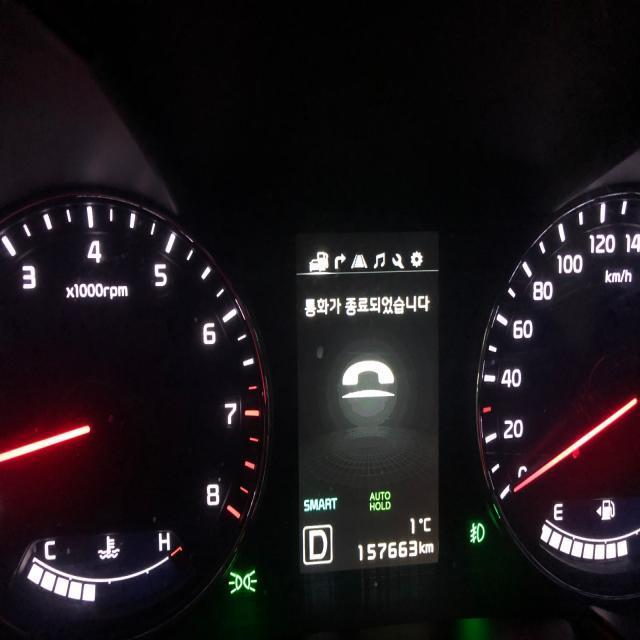FrontFogLight: (468, 519, 484, 544)
SideLamp: (227, 568, 257, 595)
